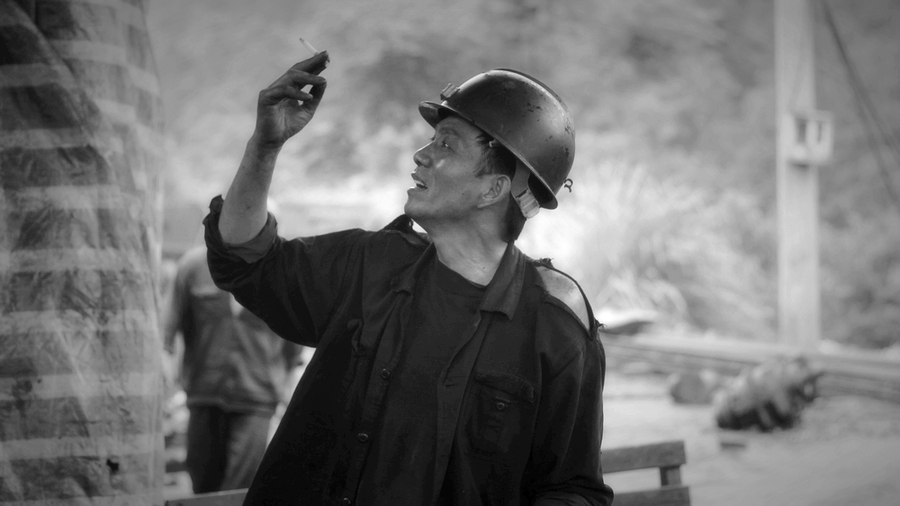helmet: (406, 57, 580, 252)
